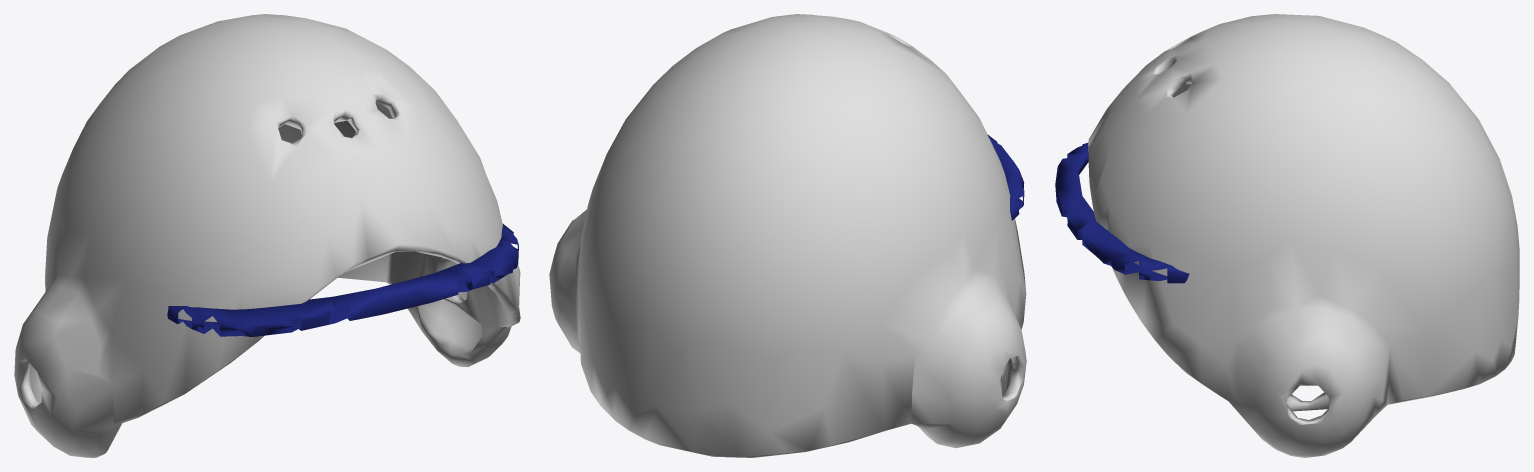
File: hat_helmet.glb
3 renders of one model, left to right at view 1: azimuth 30°, elevation 25°; view 2: azimuth 150°, elevation 25°; view 3: azimuth 270°, elevation 25°, orthographic. The views are drawn at different scales.
Parts seen in each view (by area): view 1: hat_helmet_0_primary, hat_helmet_1_secondary; view 2: hat_helmet_0_primary, hat_helmet_1_secondary; view 3: hat_helmet_0_primary, hat_helmet_1_secondary.
Boxes of the visible parts, x1=… form: hat_helmet_0_primary: x1=14, y1=14, x2=520, y2=457; hat_helmet_1_secondary: x1=167, y1=224, x2=518, y2=336; hat_helmet_0_primary: x1=549, y1=14, x2=1026, y2=457; hat_helmet_1_secondary: x1=988, y1=135, x2=1024, y2=220; hat_helmet_0_primary: x1=1088, y1=14, x2=1519, y2=457; hat_helmet_1_secondary: x1=1055, y1=142, x2=1189, y2=283.
Size of the model in its own units: 0.2808 by 0.2138 by 0.262.
